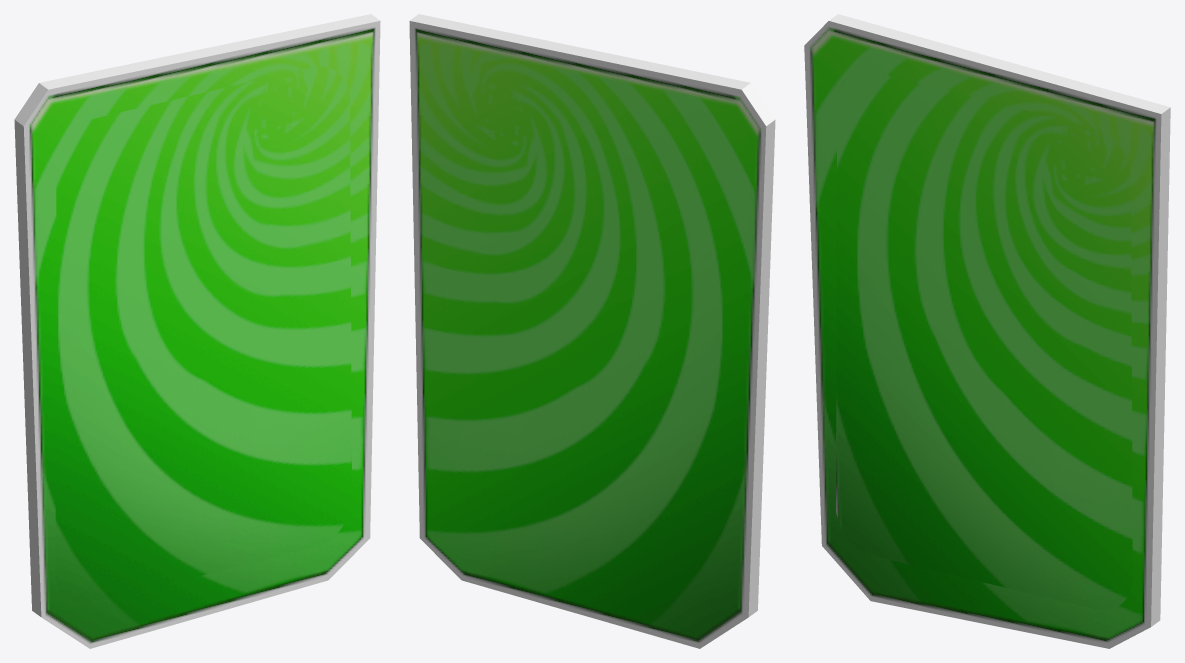
File: The.fbx
The picture shows the model from 3 angles, left to right: view 1: azimuth 30°, elevation 25°; view 2: azimuth 150°, elevation 25°; view 3: azimuth 330°, elevation 25°; orthographic projection.
Parts seen in each view (by area): view 1: the; view 2: the; view 3: the.
Boxes of the visible parts, x1,y1,x2,y2 form: the: [14, 14, 380, 648]; the: [409, 14, 775, 648]; the: [804, 14, 1170, 648].
Bounding box in the file's own units: 320 × 14.49 × 489.
